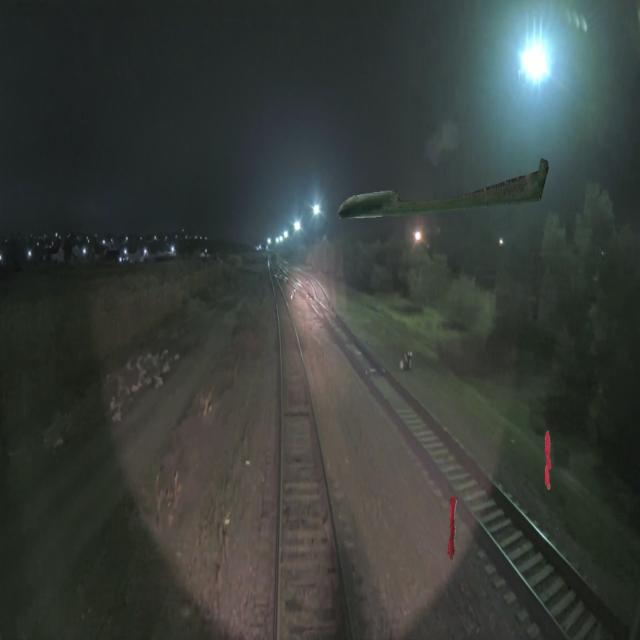floating object: (337, 154, 556, 218), (447, 496, 457, 560), (545, 426, 552, 491)
